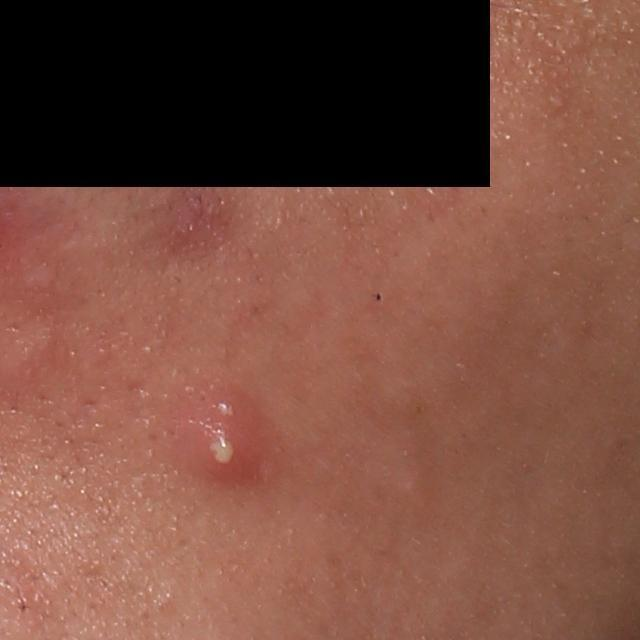pustule: (170, 376, 286, 490)
